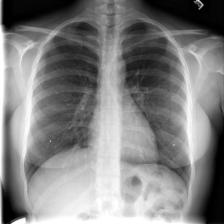normal: (19, 14, 196, 212)
